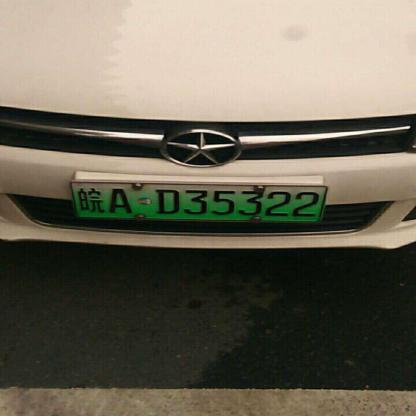lp: (72, 182, 325, 219)
